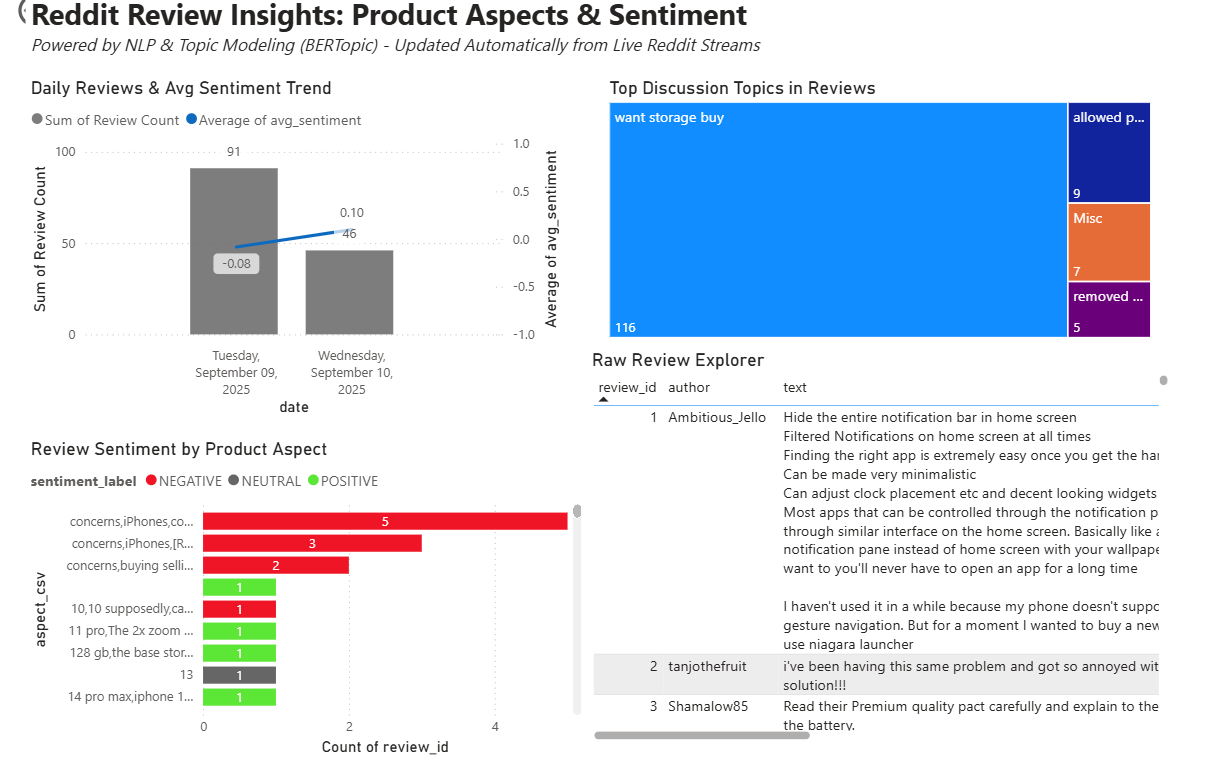

This screenshot's page, from the dashboard's own definition file:
{"tool":"powerbi","page":{"name":"Page 1","canvas":[1280,720],"ordinal":0},"visuals":[{"type":"actionButton","box":[0,0,100,40],"z":0},{"type":"lineClusteredColumnComboChart","title":"Daily Reviews & Avg Sentiment Trend","fields":{"Y":["daily_metrics.Review Count"],"Y2":["daily_metrics.avg_sentiment"],"Category":["daily_metrics.date"]},"box":[11.2,81.2,502.5,321.2],"z":1000},{"type":"barChart","title":"Review Sentiment by Product Aspect","fields":{"Category":["aspect_sentiment.aspect_csv"],"Series":["aspect_sentiment.sentiment_label"],"Y":["aspect_sentiment.review_id"]},"box":[11.2,418.8,523.8,301.2],"z":2000},{"type":"treemap","title":"Top Discussion Topics in Reviews","fields":{"Group":["topics.topic_label"],"Values":["topics.review_id"]},"box":[551.2,81.2,515,248.8],"z":3000},{"type":"tableEx","title":"Raw Review Explorer","fields":{"Values":["reviews_clean.review_id","reviews_clean.author","reviews_clean.text","aspect_sentiment.sentiment_label","aspect_sentiment.aspect_csv","topics.topic_label"]},"box":[535,336.2,547.5,370],"z":4000},{"type":"textbox","box":[1093,371,187,349],"z":5000},{"type":"textbox","box":[1094,45,186,326],"z":6000},{"type":"textbox","box":[11.2,0,708.8,70],"z":7000}]}

Visuals, with their boxes on the page's 1280x720 design canvas (x1, y1, x2, y2). These are canvas units, not pixel positions in the 1220x757 screenshot, which may show the page scaled, cropped or inside an application window:
actionButton: region(0, 0, 100, 40)
"Daily Reviews & Avg Sentiment Trend" lineClusteredColumnComboChart: region(11, 81, 514, 402)
"Review Sentiment by Product Aspect" barChart: region(11, 419, 535, 720)
"Top Discussion Topics in Reviews" treemap: region(551, 81, 1066, 330)
"Raw Review Explorer" tableEx: region(535, 336, 1082, 706)
textbox: region(1093, 371, 1280, 720)
textbox: region(1094, 45, 1280, 371)
textbox: region(11, 0, 720, 70)
